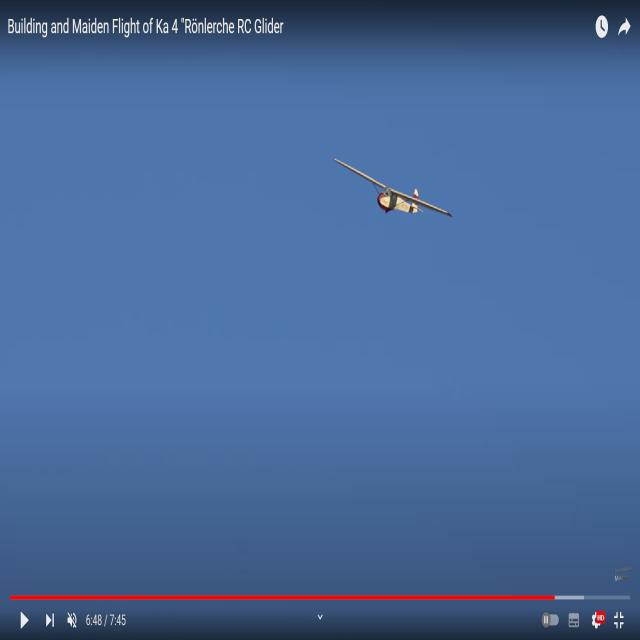iha: (359, 157, 414, 219)
